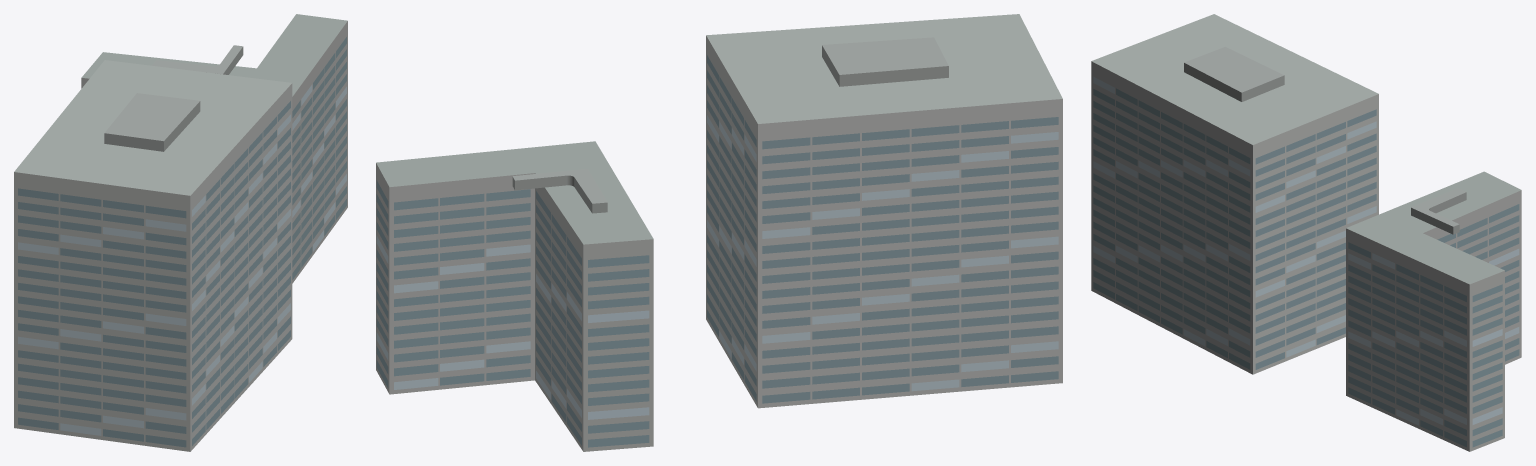
The model's file is apt-a10027019.glb.
The picture shows the model from 3 angles, left to right: view 1: azimuth 30°, elevation 25°; view 2: azimuth 150°, elevation 25°; view 3: azimuth 270°, elevation 25°; orthographic projection. The views are drawn at different scales.
Visible parts, largest first — view 1: apt-a10027019; view 2: apt-a10027019; view 3: apt-a10027019.
Part boxes in pixels (x1,y1,x2,y2): apt-a10027019: (14,14,347,451); apt-a10027019: (376,14,1062,451); apt-a10027019: (1091,14,1521,451).
Bounding box in the file's own units: 112 × 60 × 97.89.
